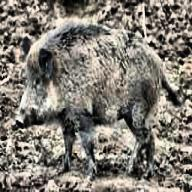boar: (12, 17, 183, 181)
